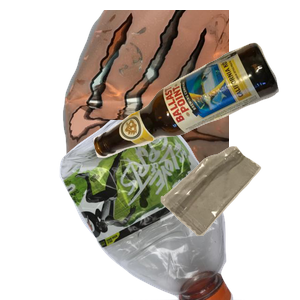glass: (91, 40, 300, 190)
metal: (60, 10, 300, 190)
plastic: (57, 120, 293, 300)
trash: (158, 144, 300, 300)
